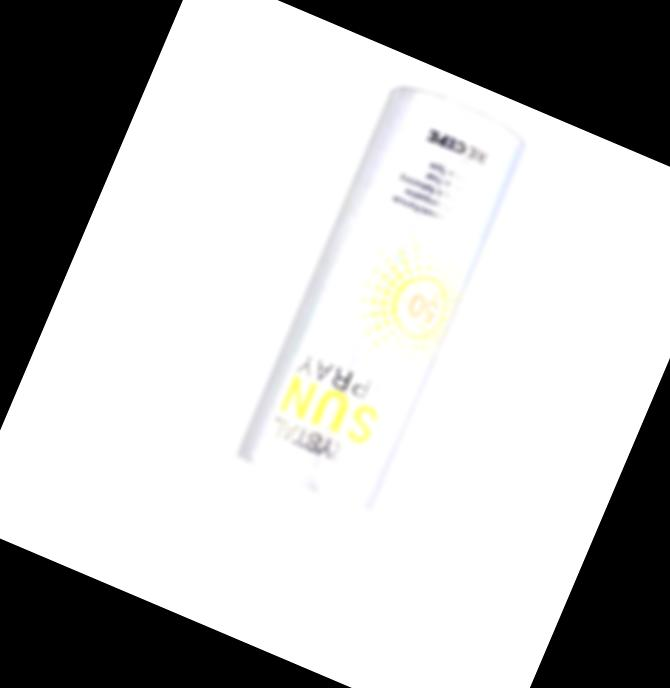cosmetic: (175, 75, 530, 641)
